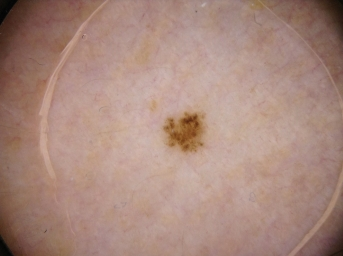nevus: (165, 110, 207, 157)
